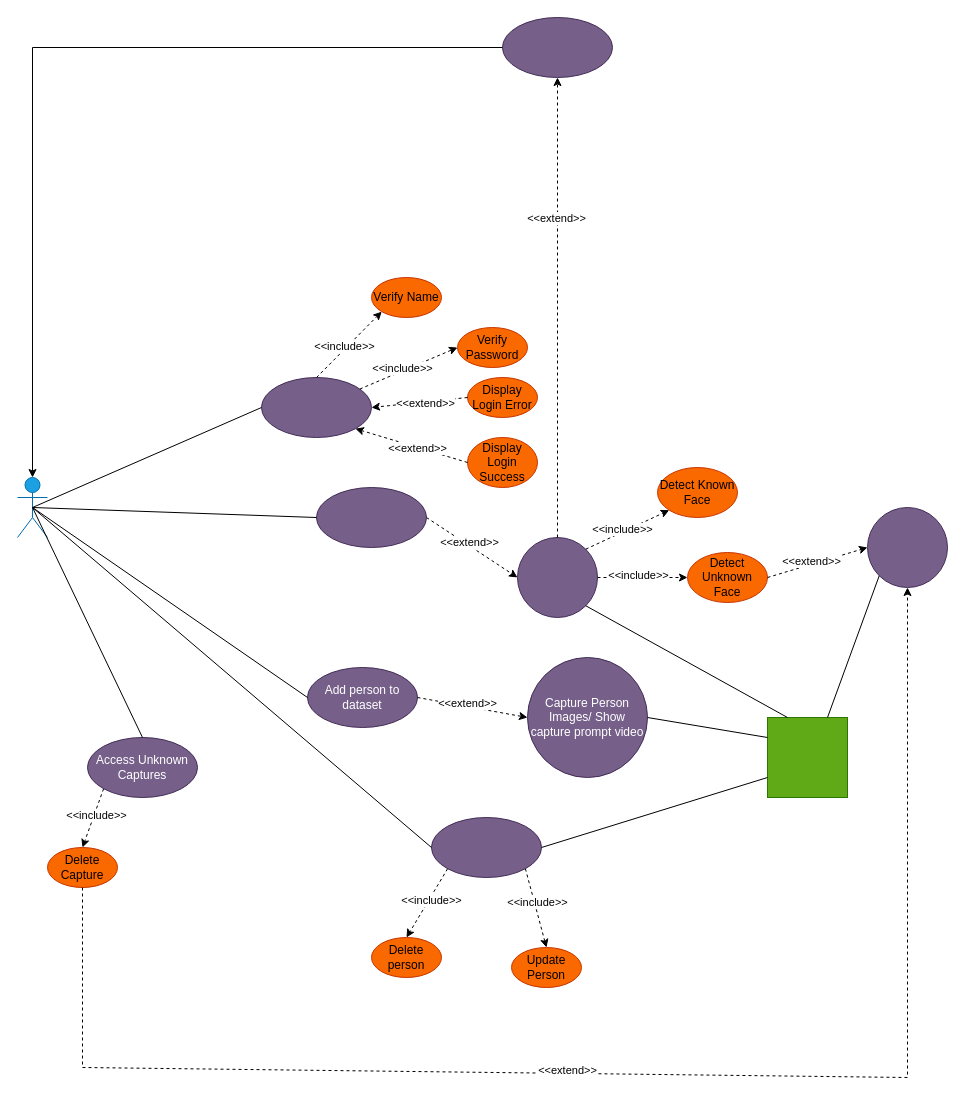
Image size: 965x1103. Some labels were removed from this diagram. Here are the shapes that lost their labels. From the top down, the centre of each, then its label:
the point at 557,47: Show user Live Feedback
the point at 316,407: Login
the point at 371,517: Start Live Recognition
the point at 907,547: Update Unknown captures Log
the point at 557,577: Identify Person
the point at 807,757: Face Recognition System
the point at 486,847: Manage Dataset
